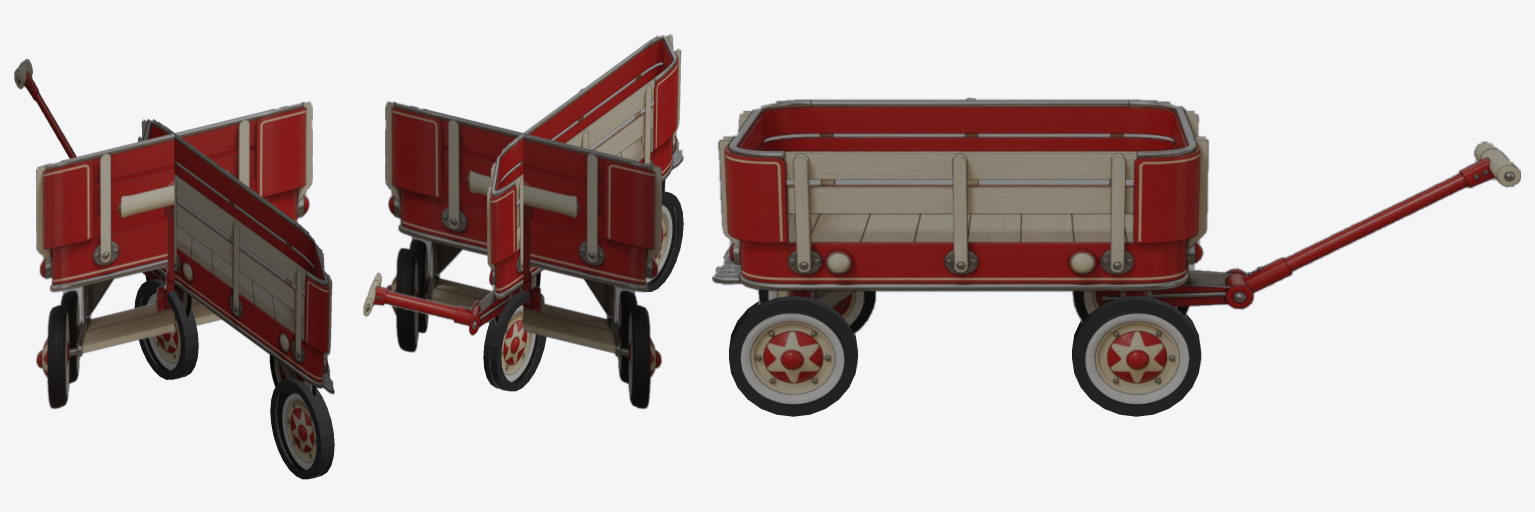
The model's file is child_wagon.glb.
3 views of the same model, side by side, from view 1: azimuth 30°, elevation 25°; view 2: azimuth 150°, elevation 25°; view 3: azimuth 270°, elevation 25° (orthographic). The views are drawn at different scales.
Parts seen in each view (by area): view 1: child_wagon, wheel_BC, wheel_FC; view 2: child_wagon, wheel_FC, wheel_BC; view 3: child_wagon, wheel_FC, wheel_BC.
Part boxes in pixels (x1,y1,x2,y2): child_wagon: (14, 59, 334, 478); wheel_BC: (270, 378, 334, 479); wheel_FC: (134, 279, 198, 379); child_wagon: (363, 34, 683, 409); wheel_FC: (483, 290, 546, 391); wheel_BC: (645, 191, 683, 291); child_wagon: (712, 97, 1520, 405); wheel_FC: (1072, 295, 1200, 416); wheel_BC: (729, 295, 857, 416).
Bounding box in the file's own units: 0.4992 × 0.4295 × 0.9991.
2 materials, 1 textured.
